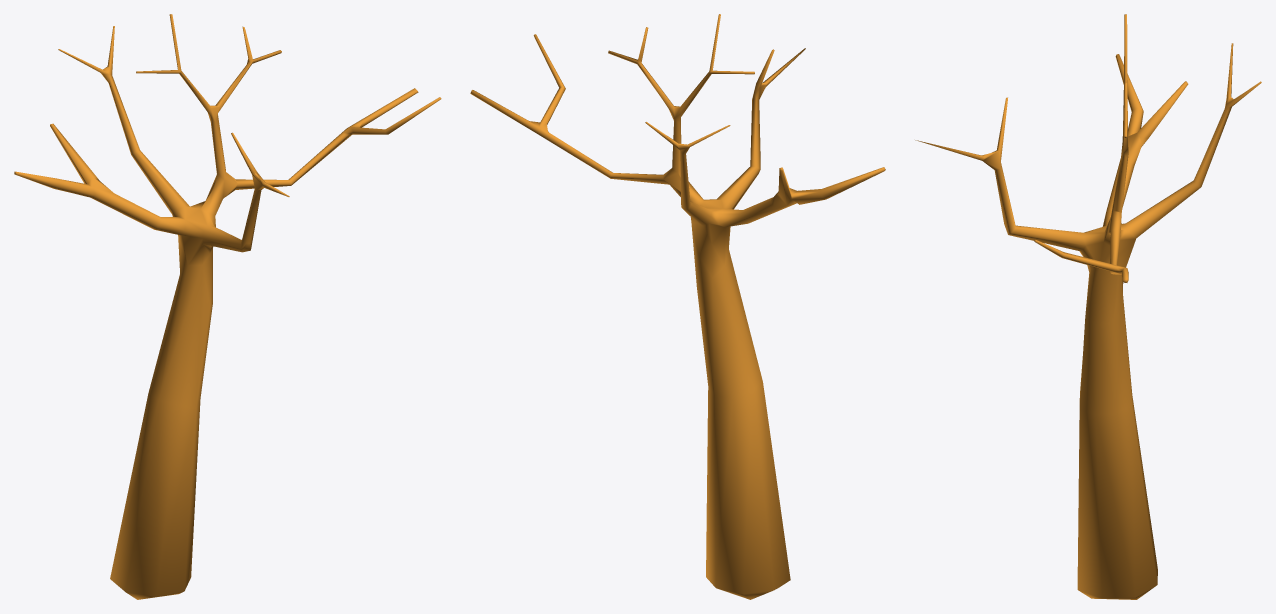
Rendered from Tree_Bark.fbx.
3 renders of one model, left to right at view 1: azimuth 30°, elevation 25°; view 2: azimuth 150°, elevation 25°; view 3: azimuth 270°, elevation 25°, orthographic. The views are drawn at different scales.
Visible parts, largest first — view 1: Big Tree.002; view 2: Big Tree.002; view 3: Big Tree.002.
Boxes of the visible parts, box(x1,y1,x2,y2) form: Big Tree.002: box(14, 14, 441, 599); Big Tree.002: box(470, 14, 885, 599); Big Tree.002: box(915, 14, 1261, 599).
Size of the model in its own units: 311 by 414 by 221.
